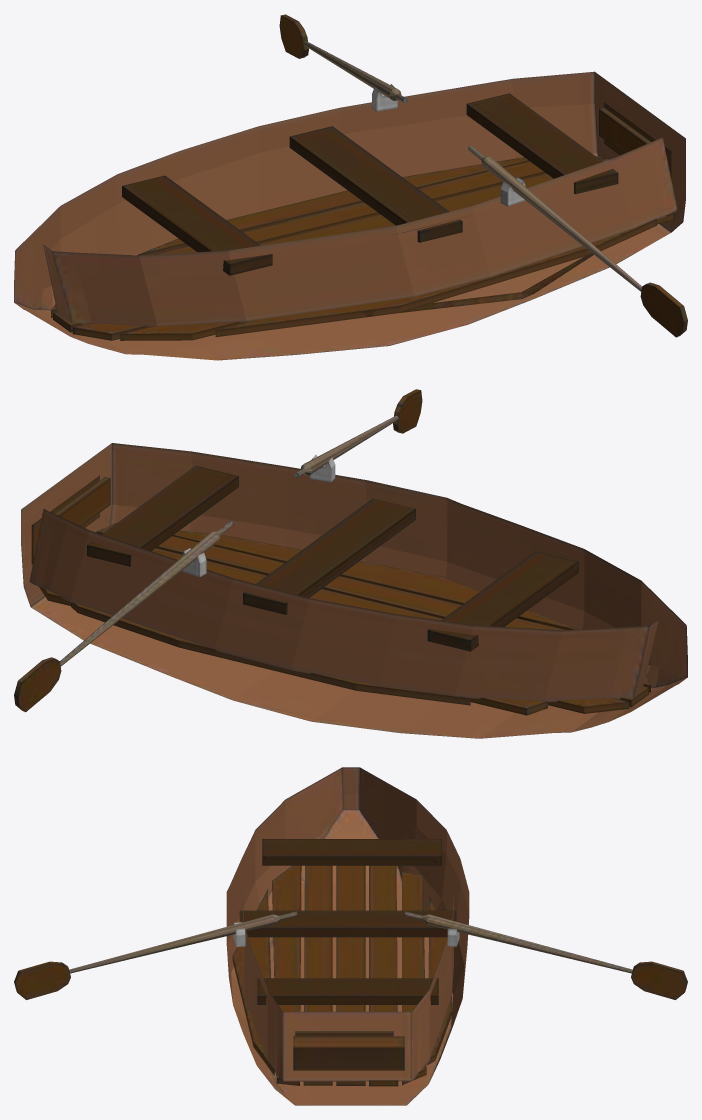
File: rowboat.glb
The picture shows the model from 3 angles, top to bottom: view 1: azimuth 30°, elevation 25°; view 2: azimuth 150°, elevation 25°; view 3: azimuth 270°, elevation 25°; orthographic projection. The views are drawn at different scales.
Visible parts, largest first — view 1: rowboat; view 2: rowboat; view 3: rowboat.
Boxes of the visible parts, x1=… form: rowboat: x1=14, y1=14, x2=687, y2=360; rowboat: x1=14, y1=389, x2=687, y2=738; rowboat: x1=14, y1=767, x2=687, y2=1105.
Bounding box in the file's own units: 773 × 181 × 863.
Materials: 1 (1 with a texture image).
